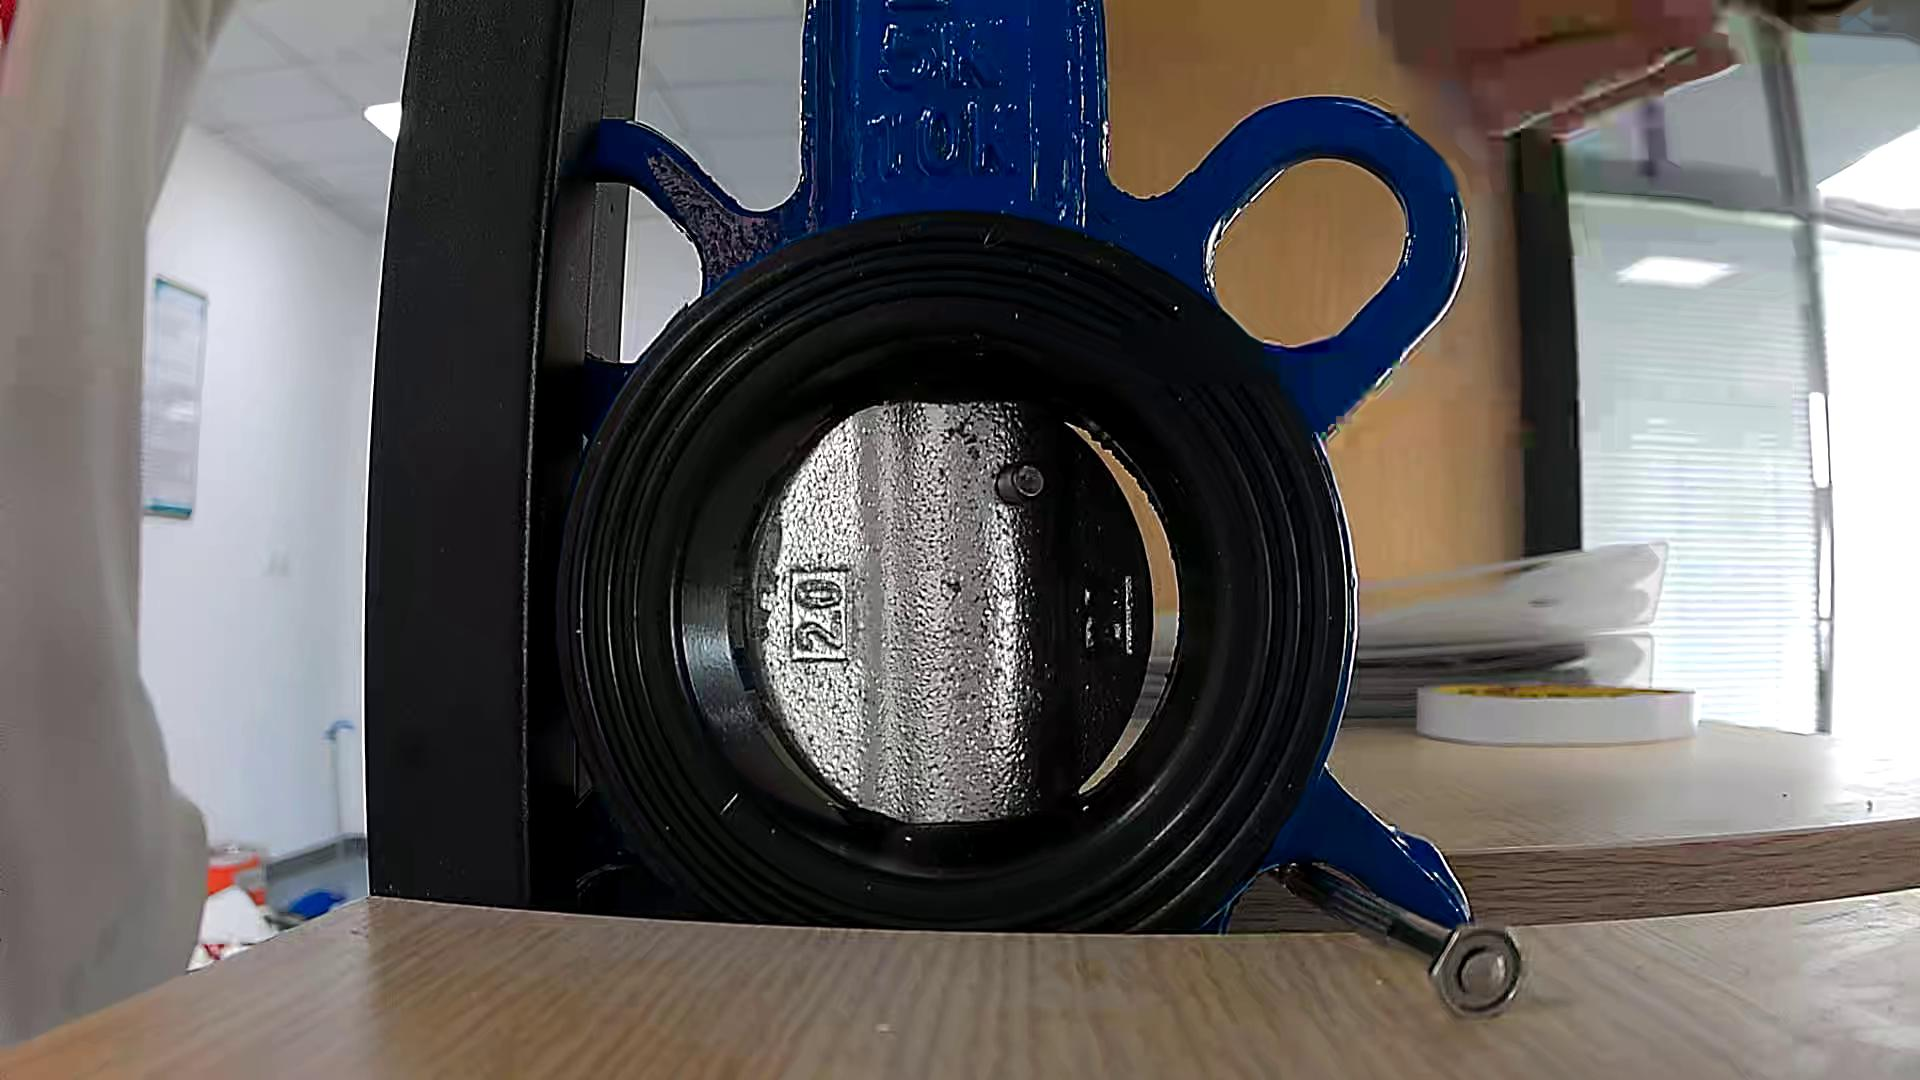valve: (750, 401, 1153, 825)
